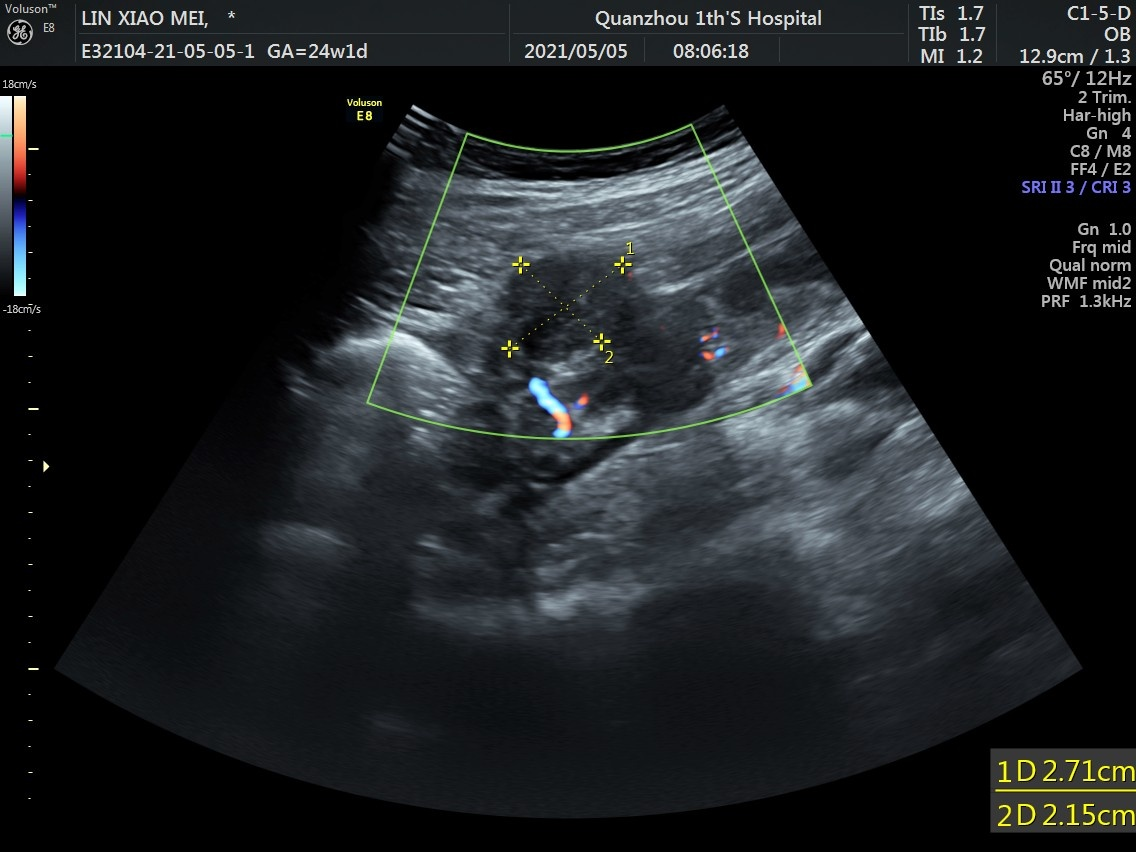肌瘤: (506, 266, 623, 357)
